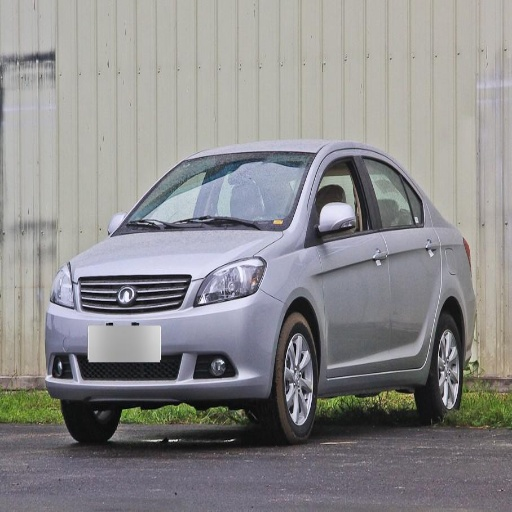front_bumper: (44, 277, 285, 397)
front_glass: (112, 152, 313, 234)
front_left_door: (305, 148, 390, 375)
